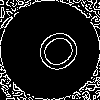O: (25, 25, 85, 83)
